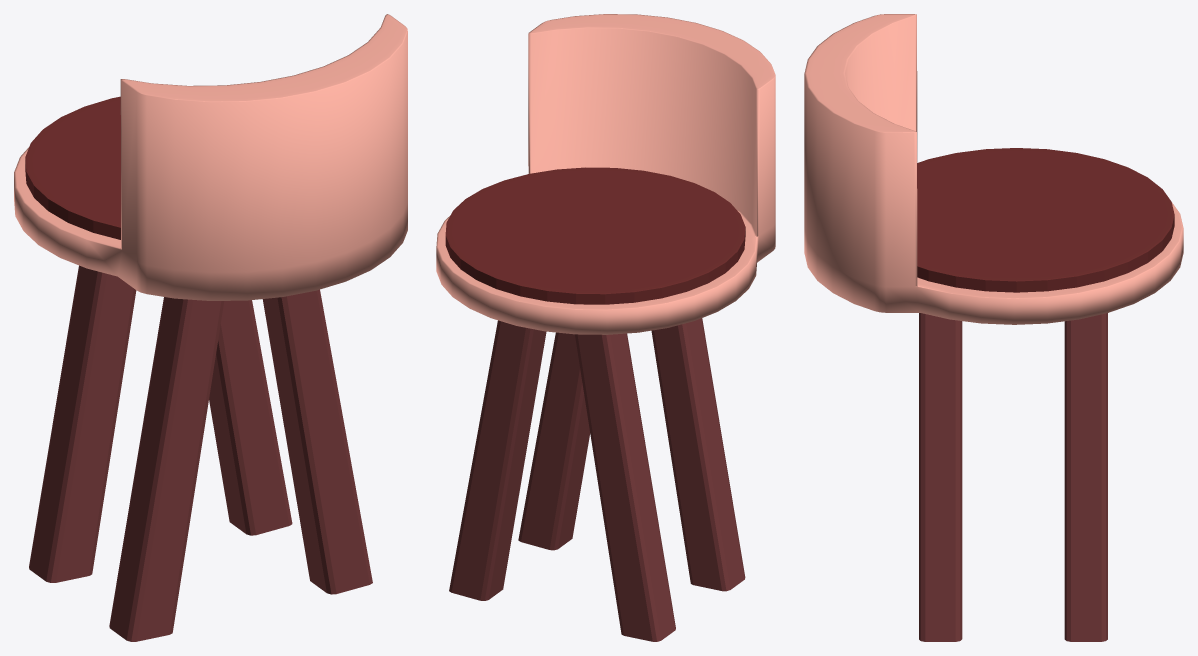
File: chair_2x1.fbx
The picture shows the model from 3 angles, left to right: view 1: azimuth 30°, elevation 25°; view 2: azimuth 150°, elevation 25°; view 3: azimuth 270°, elevation 25°; orthographic projection. The views are drawn at different scales.
Visible parts, largest first — view 1: sandalye_2x1; view 2: sandalye_2x1; view 3: sandalye_2x1.
Part boxes in pixels (x1,y1,x2,y2): sandalye_2x1: [14, 14, 407, 641]; sandalye_2x1: [436, 14, 775, 641]; sandalye_2x1: [804, 14, 1183, 641].
Size of the model in its own units: 48.04 by 80.87 by 53.84.
